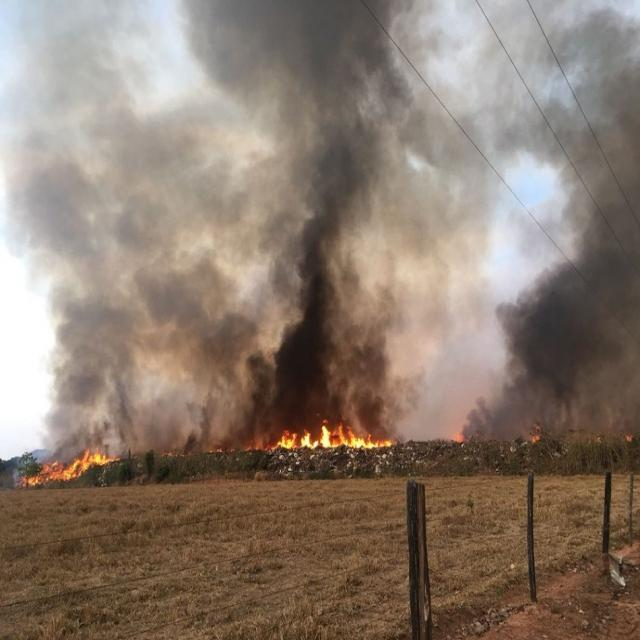Fire: (277, 416, 392, 456), (21, 448, 112, 488), (532, 422, 542, 442), (454, 429, 464, 442)
